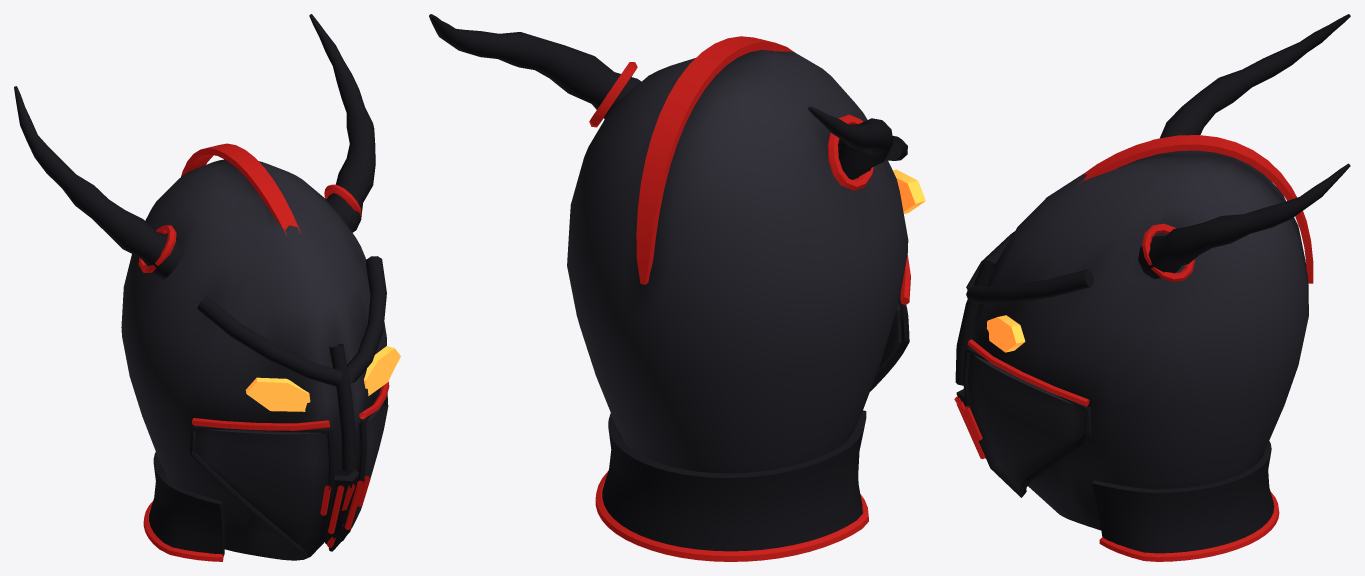
Rendered from h_emberscale_d.glb.
3 renders of one model, left to right at view 1: azimuth 30°, elevation 25°; view 2: azimuth 150°, elevation 25°; view 3: azimuth 270°, elevation 25°, orthographic. The views are drawn at different scales.
Parts seen in each view (by area): view 1: EmberHelm; view 2: EmberHelm; view 3: EmberHelm.
Boxes of the visible parts, x1,y1,x2,y2 form: EmberHelm: (14, 14, 400, 561); EmberHelm: (429, 14, 925, 561); EmberHelm: (954, 14, 1350, 561).
Bounding box in the file's own units: 0.3366 × 0.4153 × 0.3502.
